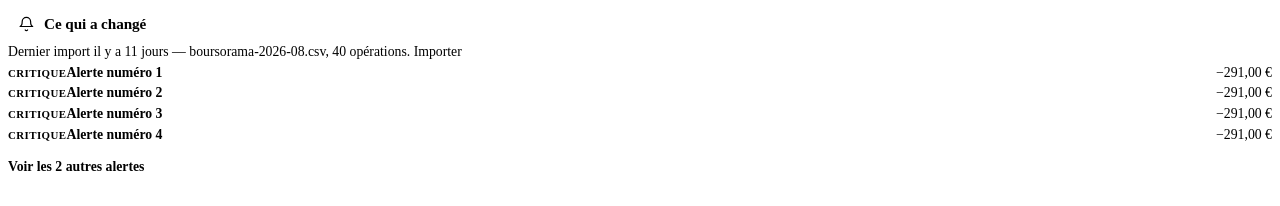
Test: WhatChangedPanel on a phone › shows four alerts and a way to the others
Expected: the link "Alerte numéro 4" is shown, [66, 125, 162, 145]
Expected: the text "Alerte numéro 5" is not shown
Click the button "Voir les 2 autres alertes".
click(76, 167)  # box [8, 145, 144, 189]
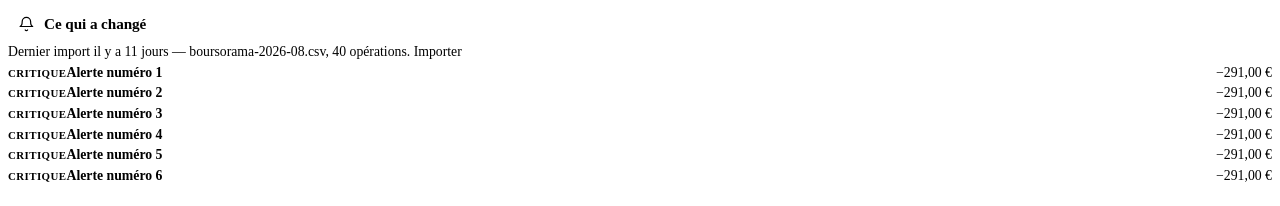
Expected: the link "Alerte numéro 6" is shown, [66, 166, 162, 186]
Expected: the button "autres alertes" is gone
